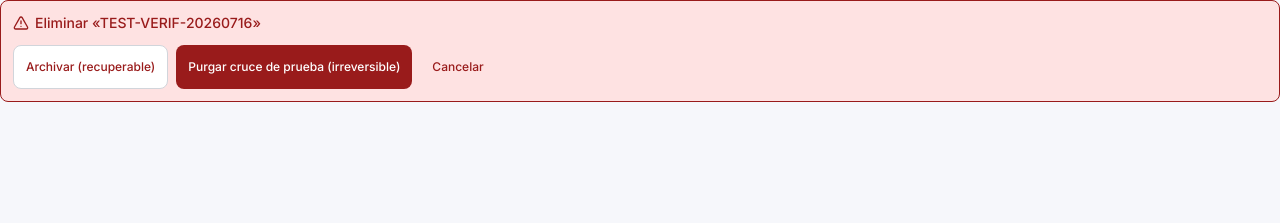
PanelBorrar — fricción de confirmación › muestra el conteo de lo que se va a perder antes de pedir el código
Click the button "Purgar cruce de prueba (irreversible)". click: (294, 67)
box: [176,45,412,89]
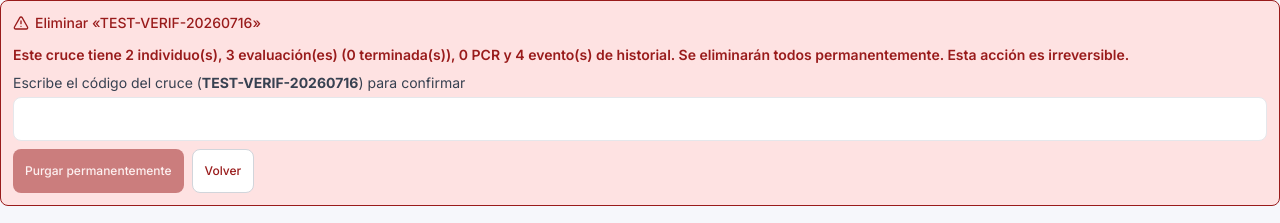
Expected: the text "2 individuo(s), 3 evaluación(es)" is shown, [13,46,675,63]
